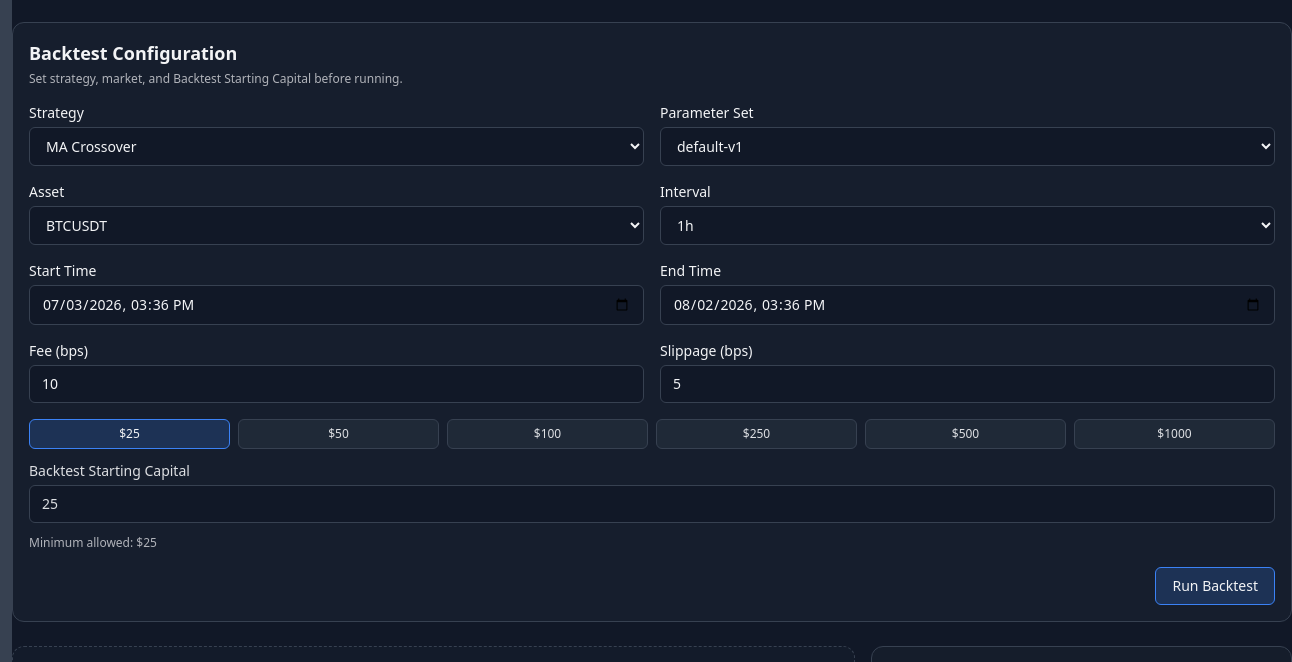
BacktestsPage › shows failed state when the backtest run fails
Check: the heading "Backtest Configuration" is shown, box 29,41 -> 237,65
Click the button "Run Backtest" at [1215, 586], box 1156,567 -> 1275,605
(page scrolled)
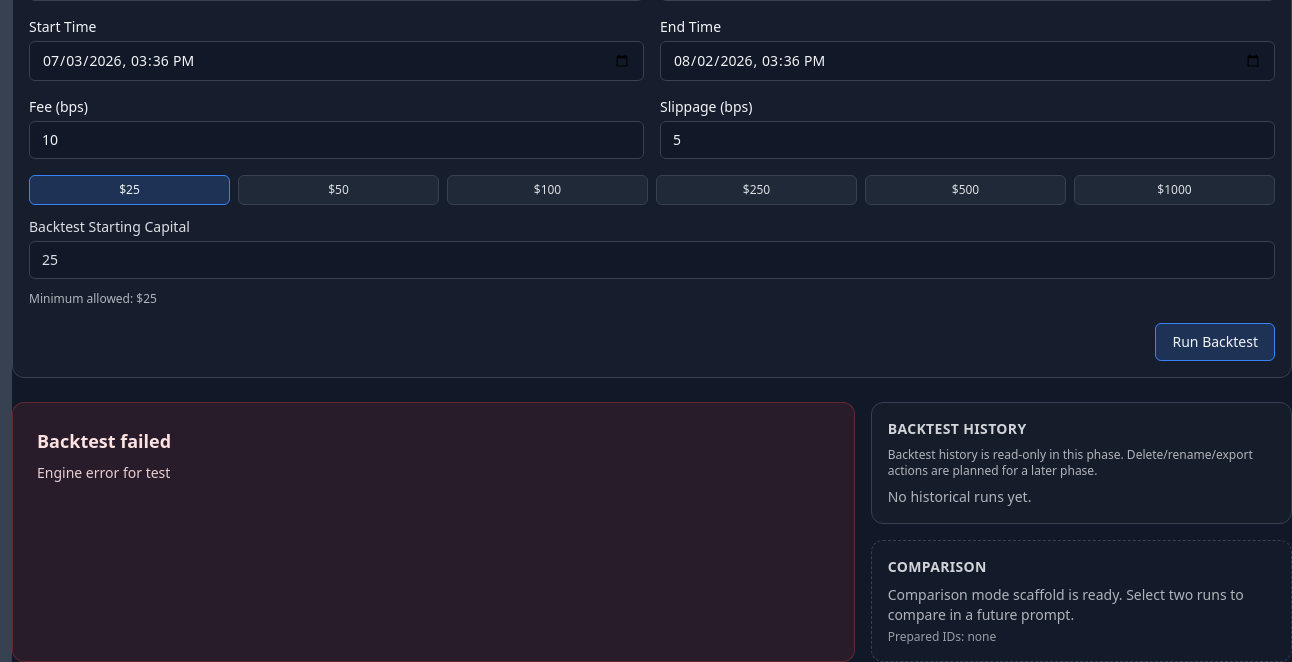
Check: the heading "Backtest failed" is shown, box 37,429 -> 171,453
Check: the text "Engine error for test" is shown, box 37,463 -> 170,482
